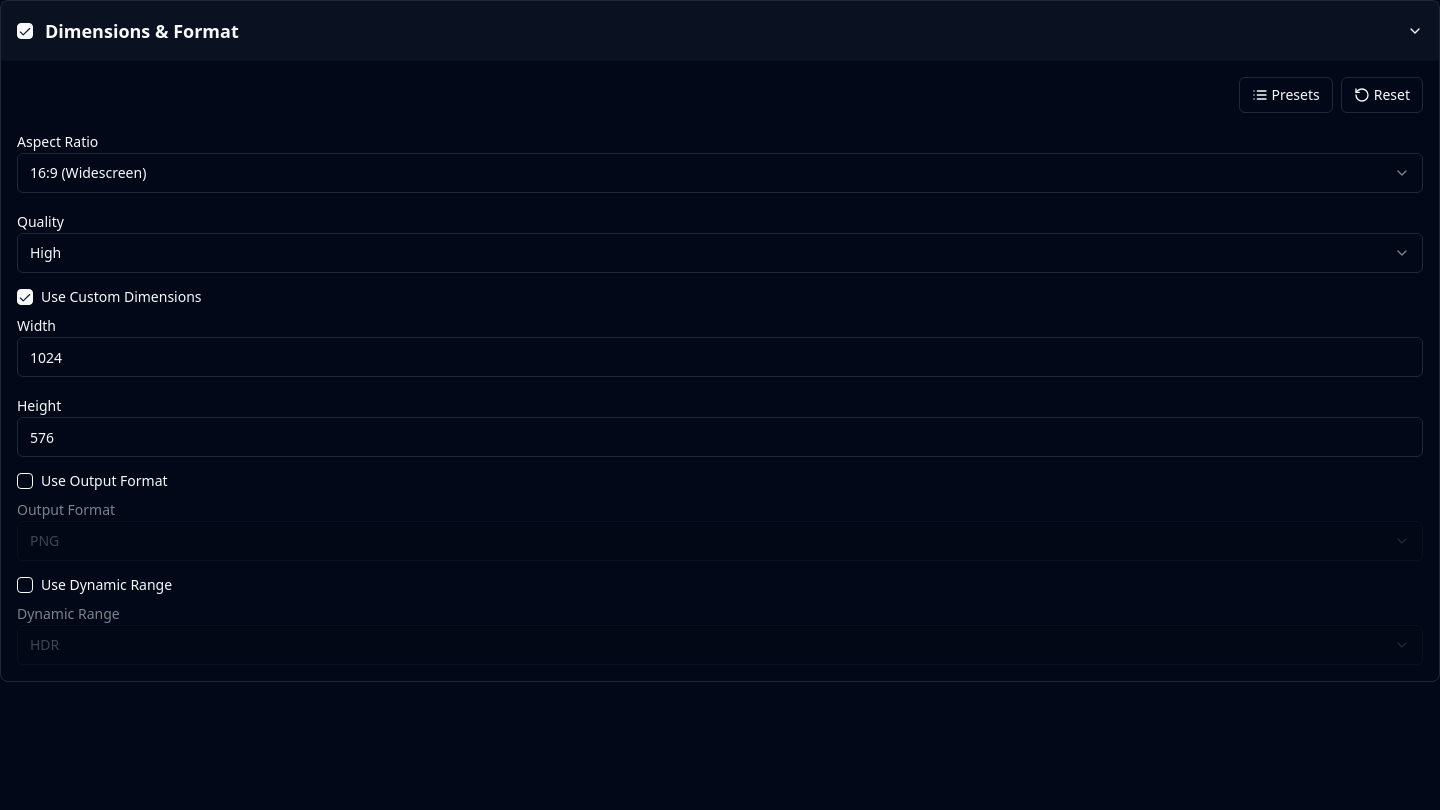
DimensionsFormatSection › displays aspect ratios with colon keys
Click the dropdown labelled "16:9 (Widescreen)" at [88, 172], box top-left (17, 153), bottom-right (1423, 193)
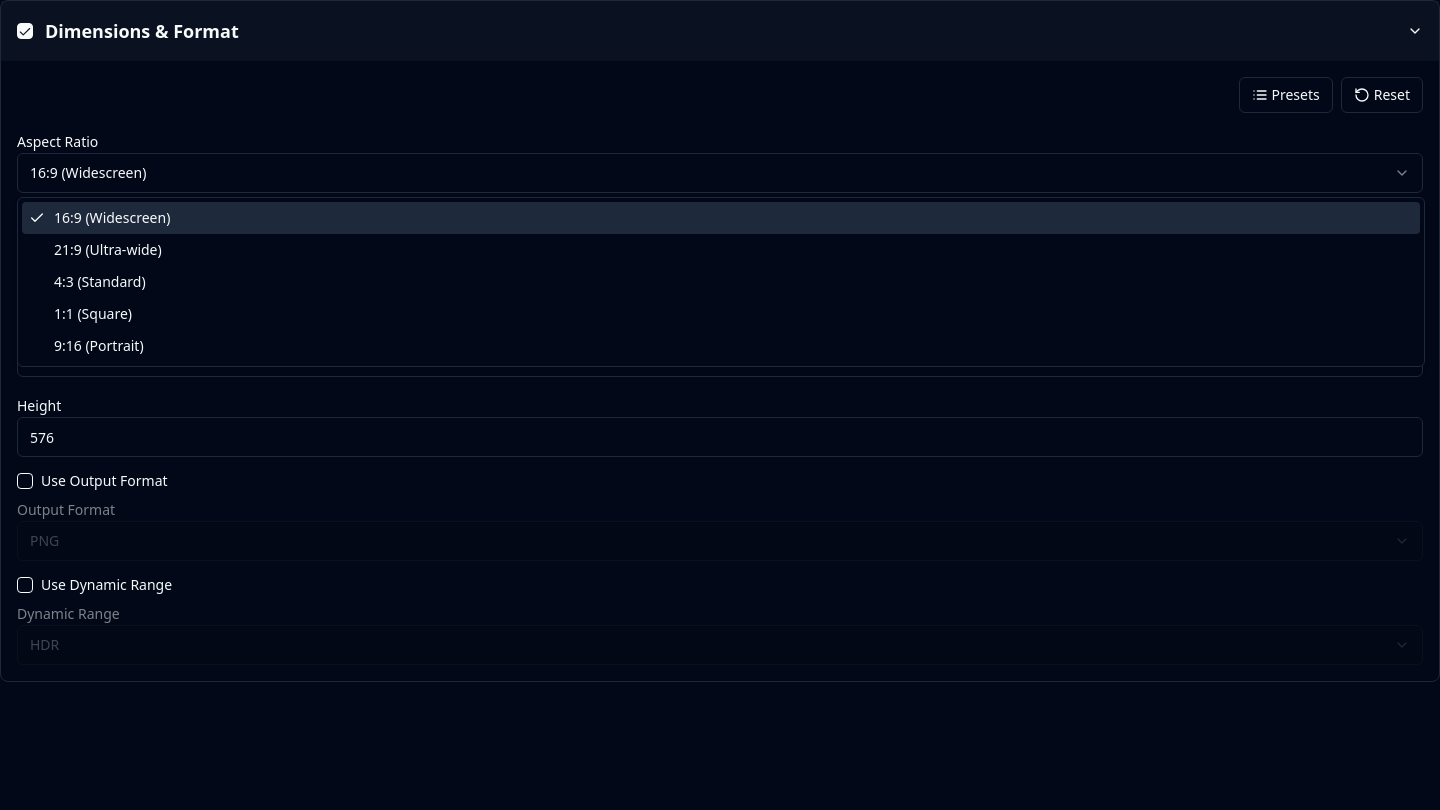
Expected: the option "21:9 (Ultra-wide)" is shown, top-left (54, 240), bottom-right (162, 259)
Expected: the option "9:16 (Portrait)" is shown, top-left (54, 336), bottom-right (144, 355)
